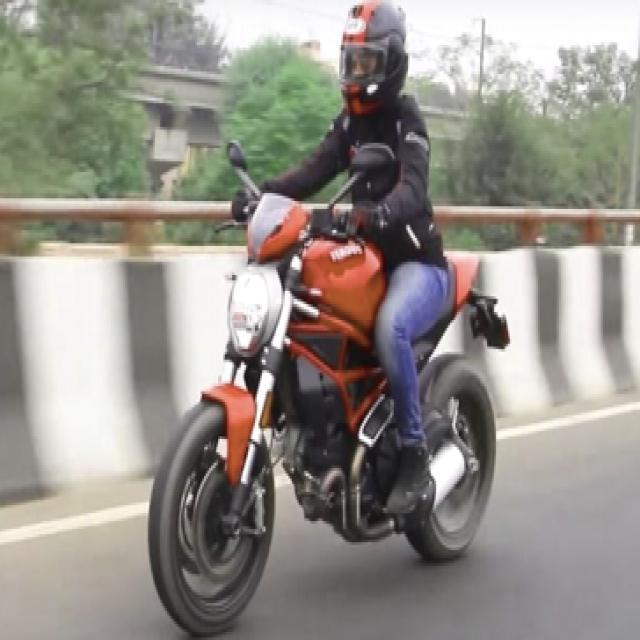Helmet: (332, 0, 417, 122)
